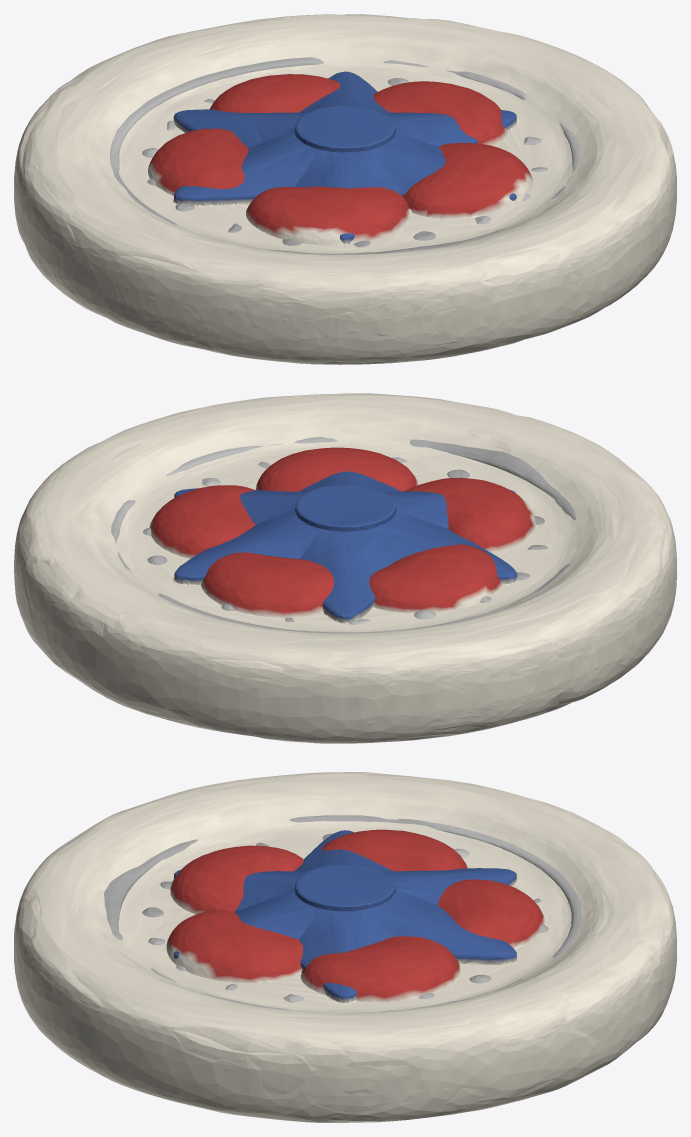
The model's file is pieces.glb.
3 views of the same model, one above another, from view 1: azimuth 30°, elevation 25°; view 2: azimuth 150°, elevation 25°; view 3: azimuth 270°, elevation 25° (orthographic).
Parts seen in each view (by area): view 1: token_p2, token_p1, coin_red; view 2: token_p2, token_p1, coin_red; view 3: token_p2, token_p1, coin_red.
Part boxes in pixels (x1,y1,x2,y2): token_p2: (14,14,675,363); token_p1: (14,14,676,364); coin_red: (109,57,580,254); token_p2: (16,393,676,742); token_p1: (14,394,676,743); coin_red: (111,437,575,633); token_p2: (14,772,674,1122); token_p1: (14,772,676,1122); coin_red: (104,815,581,1012).
Bounding box in the file's own units: 0.4142 × 0.0749 × 0.4141.
